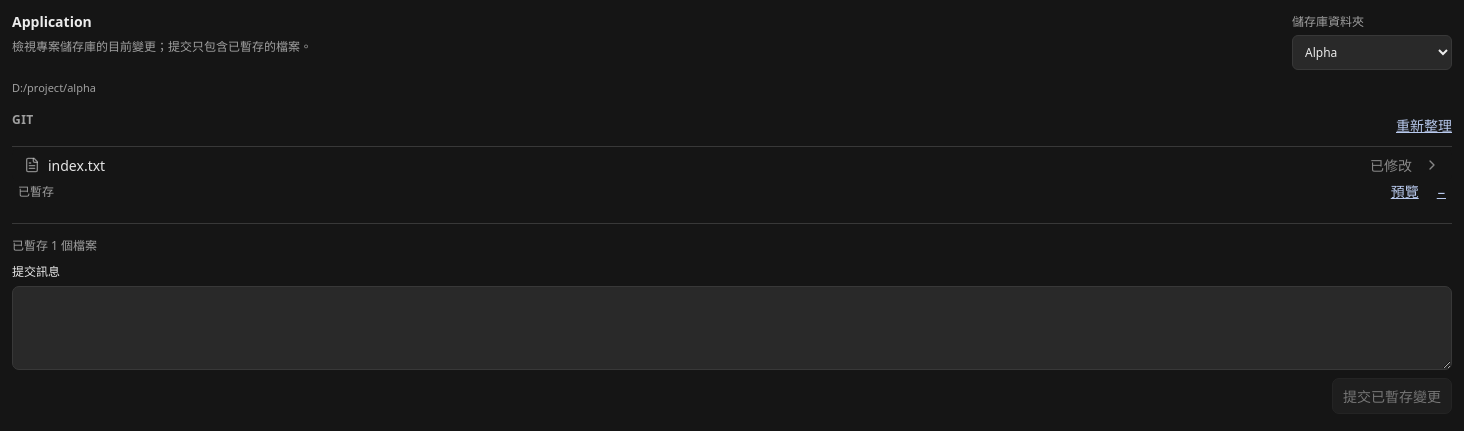
Test: ProjectGitPane › withdraws folder authority when native membership becomes unreadable after a successful commit
Type "Accepted commit" into the text box labelled "提交訊息". click: (732, 328)
box: [12,286,1452,370]
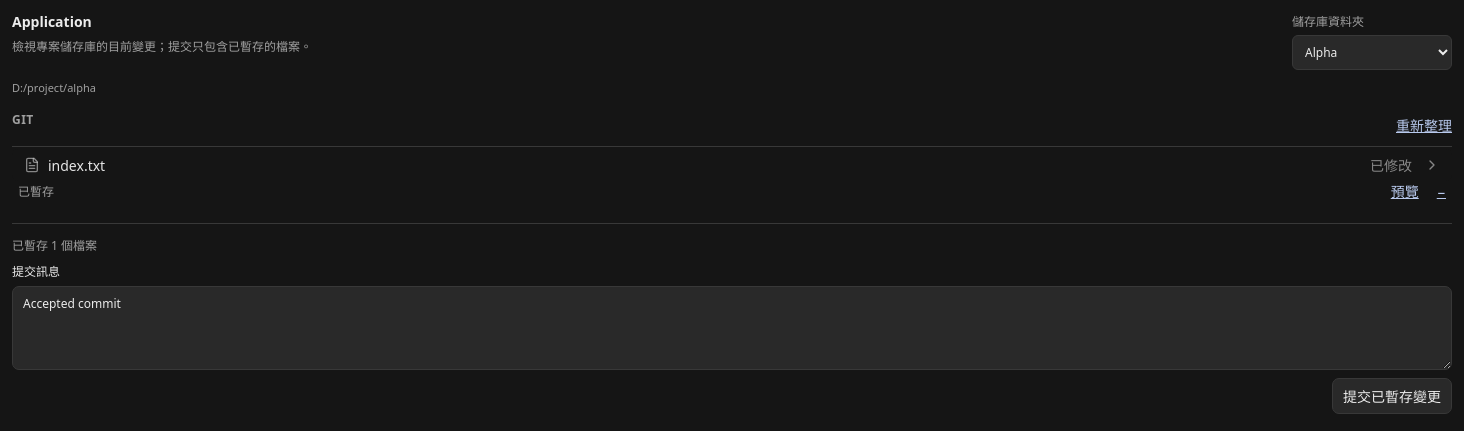
Click the button "提交已暫存變更". click: click(1392, 396)
box: [1332,378,1452,414]
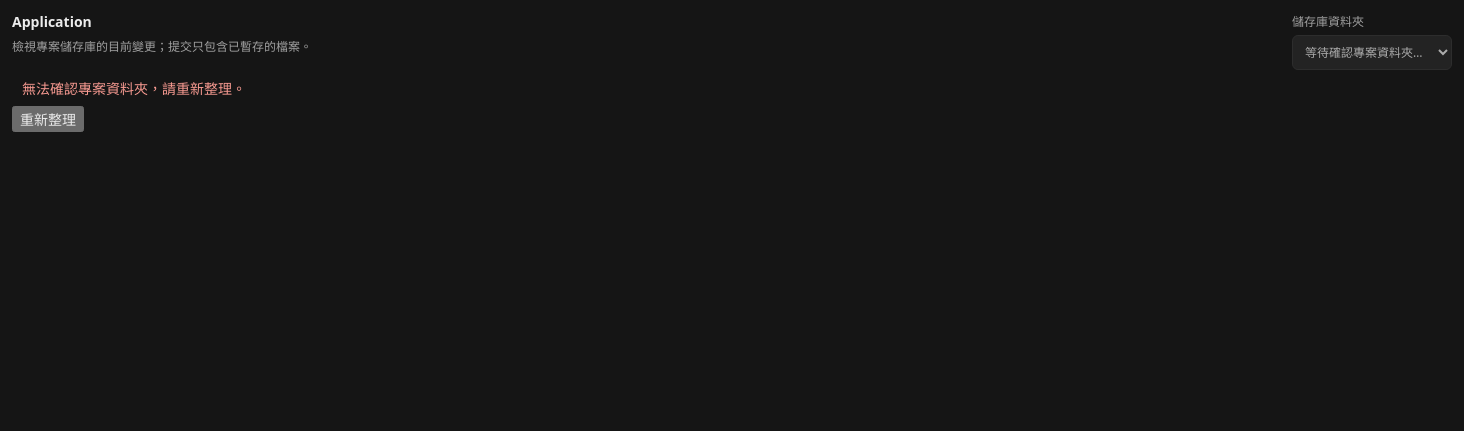
Now the message "無法確認專案資料夾，請重新整理。" is shown, box [22,79,246,98]
Now the dropdown labelled "儲存庫資料夾" is disabled, box [1292,35,1452,70]
Now the button "index.txt" is gone
